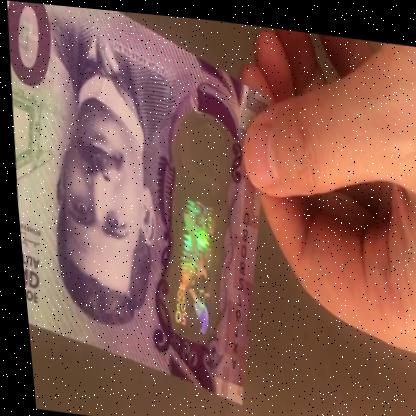50F: (154, 122, 232, 339)
